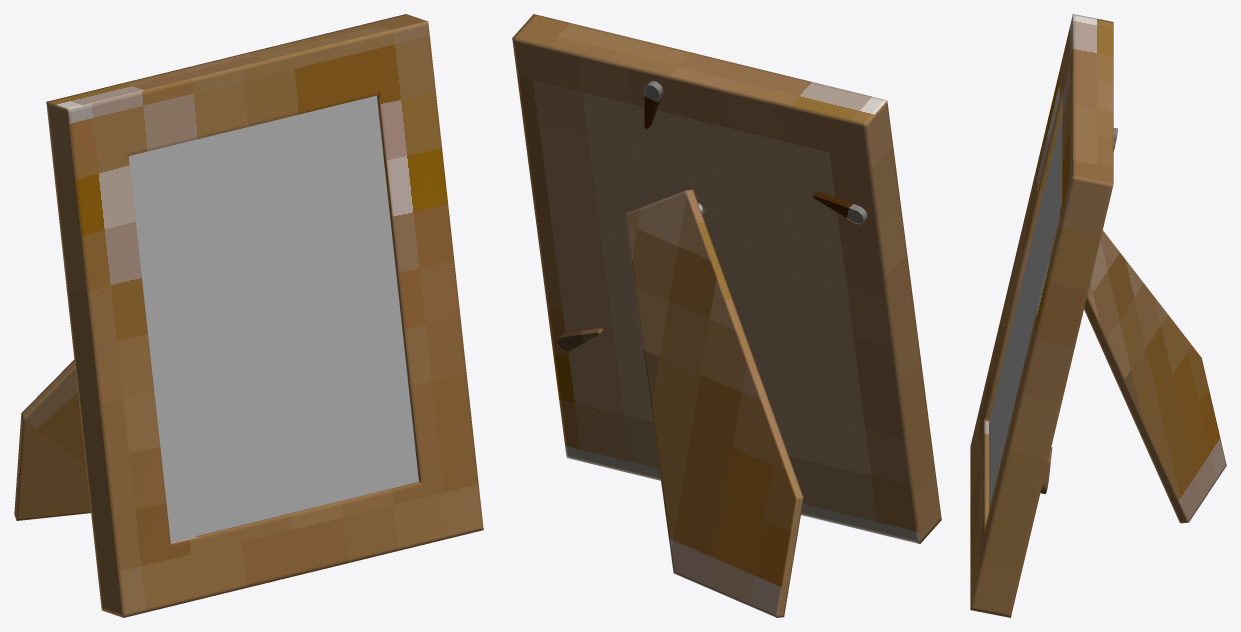
The model's file is a_com_house_a01_photostand01.gltf.
The picture shows the model from 3 angles, left to right: view 1: azimuth 30°, elevation 25°; view 2: azimuth 150°, elevation 25°; view 3: azimuth 270°, elevation 25°; orthographic projection. The views are drawn at different scales.
Parts seen in each view (by area): view 1: um_a_com_house_a01_photostand01_model_a_com_house_a01_photos (×2); view 2: um_a_com_house_a01_photostand01_model_a_com_house_a01_photos; view 3: um_a_com_house_a01_photostand01_model_a_com_house_a01_photos (×2).
Part boxes in pixels (x1,y1,x2,y2): um_a_com_house_a01_photostand01_model_a_com_house_a01_photos (×2): [14, 14, 483, 617]; um_a_com_house_a01_photostand01_model_a_com_house_a01_photos: [512, 14, 941, 617]; um_a_com_house_a01_photostand01_model_a_com_house_a01_photos (×2): [970, 14, 1226, 617].
Size of the model in its own units: 0.1973 by 0.2495 by 0.1315.
Materials: 2 (2 with a texture image).
